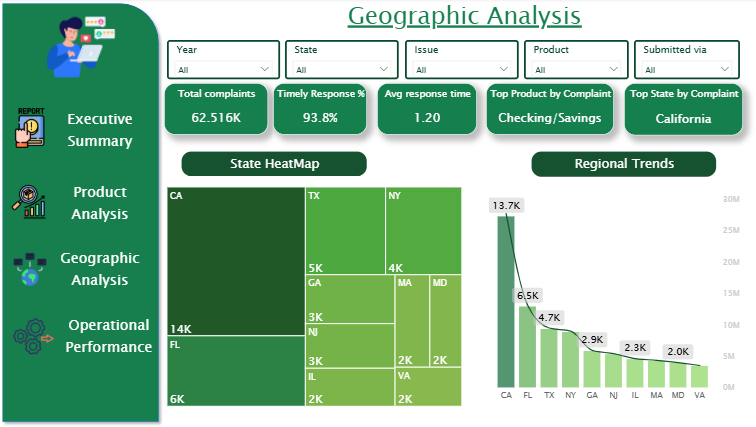

Layout of this report page (visuals, bound fields, positions):
{"tool":"powerbi","page":{"name":"Geographic Analysis","canvas":[1280,720],"ordinal":2},"visuals":[{"type":"group","id":"g1","title":"Group 4","box":[0,0,280.5,720.6],"z":0},{"type":"shape","box":[0,0,280.5,720.6],"z":0,"group":"g1"},{"type":"treemap","title":"Monthly Trend","fields":{"Values":["Data.total complaint"],"Group":["Data.State"]},"box":[280,311.7,505,378.3],"z":1000},{"type":"textbox","title":"State HeatMap","box":[308.3,256.7,313.3,43.3],"z":2000},{"type":"image","box":[55.4,21.8,171.3,120.9],"z":3000},{"type":"image","box":[13.4,184.8,82.3,67.2],"z":4000},{"type":"image","box":[23.5,300.7,58.8,82.3],"z":5000},{"type":"image","box":[26.9,423.3,57.1,65.5],"z":6000},{"type":"image","box":[26.9,534.2,68.9,68.9],"z":7000},{"type":"shape","title":"Geographic Analysis","box":[290,0,990,81.7],"z":8000},{"type":"cardVisual","title":"Total complaints","fields":{"Data":["Count(Data.Complaint ID)"]},"box":[280,143.3,175,86.7],"z":9000},{"type":"cardVisual","title":"Timely Response %","fields":{"Data":["Data.Timely Complaints %"]},"box":[463.3,143.3,158.3,86.7],"z":10000},{"type":"cardVisual","title":"Avg response time","fields":{"Data":["Data.Average Resolution Days"]},"box":[637.8,143.3,168.3,86.7],"z":11000},{"type":"cardVisual","title":"Top Product by Complaint ","fields":{"Data":["Data.Top Complaint Product"]},"box":[822.2,143.3,215,86.7],"z":12000},{"type":"cardVisual","title":"Top State by Complaint","fields":{"Data":["Data.Top State Complaints"]},"box":[1053.3,143.3,200,88.3],"z":13000},{"type":"lineStackedColumnComboChart","fields":{"Y":["Data.total complaint"],"Y2":["Sum(Data.Year)"],"Category":["Data.State"]},"box":[821.7,321.7,431.7,368.3],"z":19000},{"type":"actionButton","box":[95.7,178.1,154.5,89],"z":20000},{"type":"actionButton","box":[95.7,300.7,154.5,89],"z":21000},{"type":"actionButton","box":[95.7,411.5,154.5,89],"z":22000},{"type":"actionButton","box":[95.7,524.1,184.8,89],"z":23000},{"type":"slicer","fields":{"Values":["Data.Year"]},"box":[285.6,70.6,189.8,65.5],"z":23001},{"type":"slicer","fields":{"Values":["Data.State"]},"box":[484.2,70.6,191.5,65.5],"z":23002},{"type":"slicer","fields":{"Values":["Data.Product"]},"box":[884.8,70.6,176.4,65.5],"z":23003},{"type":"slicer","fields":{"Values":["Data.Submitted via"]},"box":[1070,70.6,178.1,65.5],"z":23004},{"type":"slicer","fields":{"Values":["Data.Issue"]},"box":[684.5,70.6,191.5,65.5],"z":23005},{"type":"textbox","title":"Regional Trends","box":[897,257,312.4,43.7],"z":23006}]}

Visuals, with their boxes in screenshot pixels (x1, y1, x2, y2), scaled from the page's 1280x720 canvas onto the 756x427 screenshot:
"Group 4" group: <region>0, 0, 166, 426</region>
shape: <region>0, 0, 166, 426</region>
"Monthly Trend" treemap: <region>165, 185, 464, 409</region>
"State HeatMap" textbox: <region>182, 152, 367, 178</region>
image: <region>33, 13, 134, 85</region>
image: <region>8, 110, 57, 149</region>
image: <region>14, 178, 49, 227</region>
image: <region>16, 251, 50, 290</region>
image: <region>16, 317, 57, 358</region>
"Geographic Analysis" shape: <region>171, 0, 755, 48</region>
"Total complaints" cardVisual: <region>165, 85, 269, 136</region>
"Timely Response %" cardVisual: <region>274, 85, 367, 136</region>
"Avg response time" cardVisual: <region>377, 85, 476, 136</region>
"Top Product by Complaint " cardVisual: <region>486, 85, 613, 136</region>
"Top State by Complaint" cardVisual: <region>622, 85, 740, 137</region>
lineStackedColumnComboChart - Data.total complaint x Sum(Data.Year): <region>485, 191, 740, 409</region>
actionButton: <region>57, 106, 148, 158</region>
actionButton: <region>57, 178, 148, 231</region>
actionButton: <region>57, 244, 148, 297</region>
actionButton: <region>57, 311, 166, 364</region>
slicer - Data.Year: <region>169, 42, 281, 81</region>
slicer - Data.State: <region>286, 42, 399, 81</region>
slicer - Data.Product: <region>523, 42, 627, 81</region>
slicer - Data.Submitted via: <region>632, 42, 737, 81</region>
slicer - Data.Issue: <region>404, 42, 517, 81</region>
"Regional Trends" textbox: <region>530, 152, 714, 178</region>
